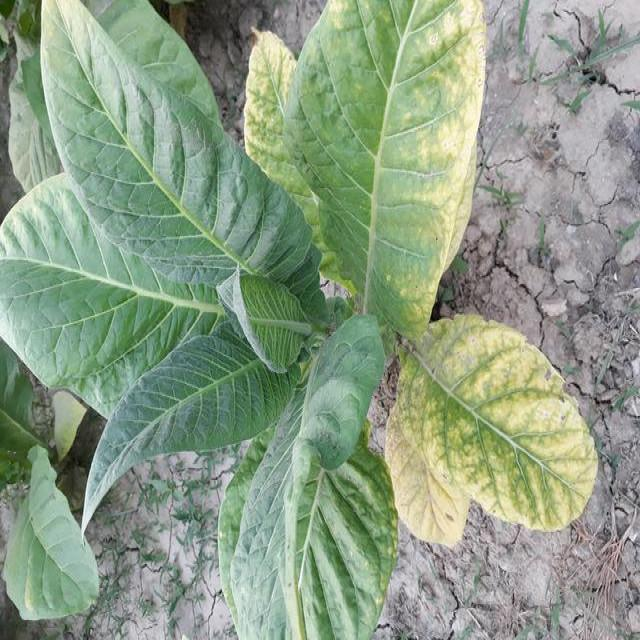crop: (5, 9, 603, 633)
